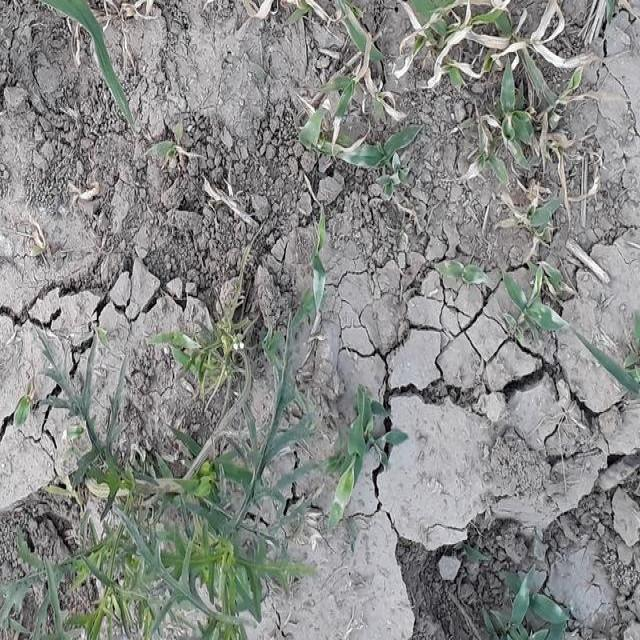weed: (71, 279, 383, 640), (294, 0, 590, 180)
